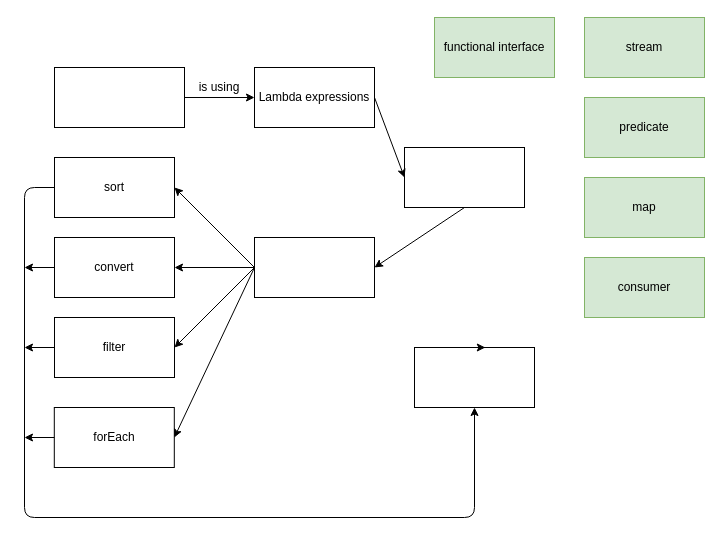
Image size: 722x543. Some labels were removed from this diagram. Each missing label, with the centre of its shape:
"input" goes at (x=464, y=177).
"operations" goes at (x=314, y=267).
"output" goes at (x=474, y=377).
"Streams-manipulate large quantity of data" goes at (x=119, y=97).
